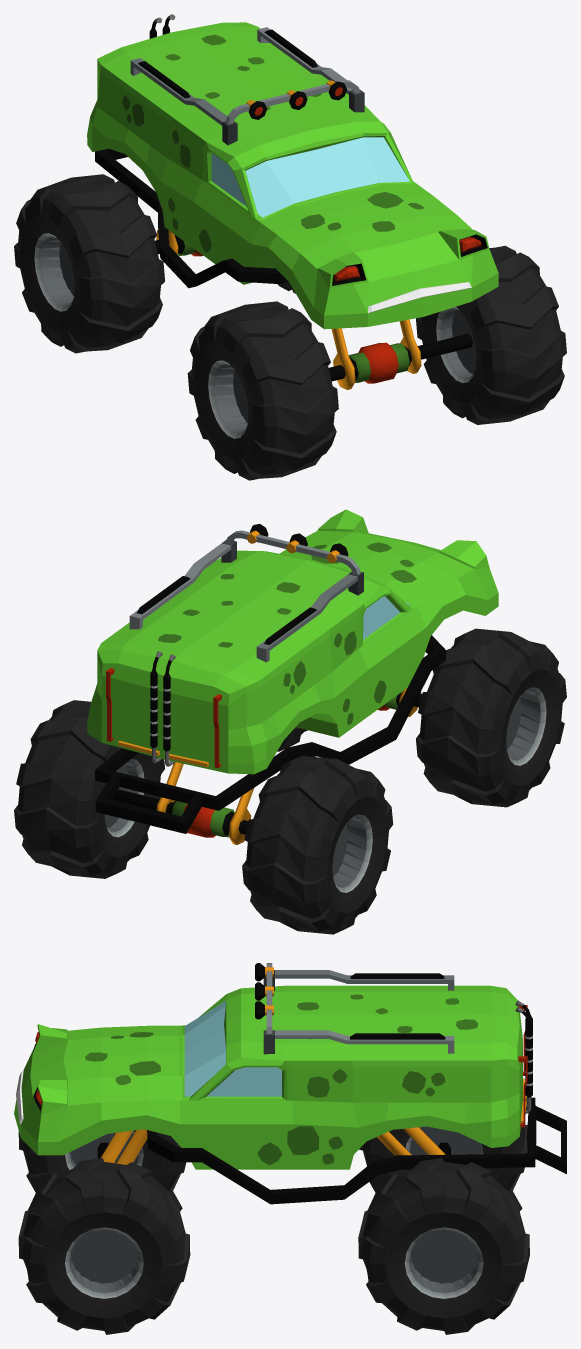
Rendered from Frog.fbx.
3 renders of one model, top to bottom at view 1: azimuth 30°, elevation 25°; view 2: azimuth 150°, elevation 25°; view 3: azimuth 270°, elevation 25°, orthographic. The views are drawn at different scales.
Parts seen in each view (by area): view 1: Monster_Truck_Body, Wheel_RR, Wheel_FR, Wheel_FL, Monster_Truck_Livery, Axel Front; view 2: Monster_Truck_Body, Wheel_RR, Wheel_FR, Wheel_RL, Monster_Truck_Livery, Axel Back; view 3: Monster_Truck_Body, Wheel_RL, Wheel_FL, Monster_Truck_Livery, Wheel_RR, Wheel_FR, Axel Front, Axel Back.
Part boxes in pixels (x1,y1,x2,y2): Monster_Truck_Body: (87, 22, 498, 329); Wheel_RR: (14, 174, 164, 353); Wheel_FR: (187, 301, 338, 480); Wheel_FL: (416, 245, 566, 424); Monster_Truck_Livery: (105, 14, 424, 252); Axel Front: (328, 319, 472, 389); Monster_Truck_Body: (87, 509, 498, 833); Wheel_RR: (242, 755, 393, 934); Wheel_FR: (416, 628, 566, 807); Wheel_RL: (14, 700, 164, 878); Monster_Truck_Livery: (106, 524, 416, 768); Axel Back: (112, 762, 253, 844); Monster_Truck_Body: (14, 985, 566, 1204); Wheel_RL: (358, 1158, 529, 1334); Wheel_FL: (18, 1158, 190, 1334); Monster_Truck_Livery: (85, 963, 532, 1165); Wheel_RR: (359, 1124, 527, 1192); Wheel_FR: (18, 1130, 186, 1192); Axel Front: (97, 1129, 147, 1164); Axel Back: (377, 1127, 450, 1169).
Size of the model in its own units: 485 by 442 by 774.
